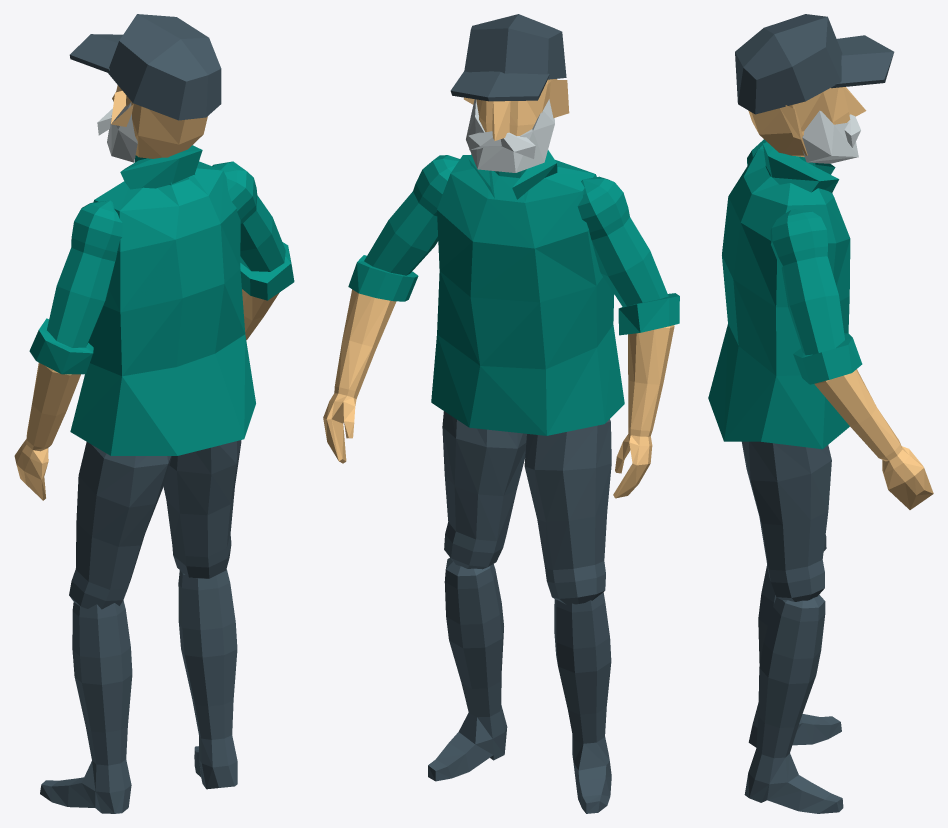
The model's file is grandpa.glb.
The picture shows the model from 3 angles, left to right: view 1: azimuth 30°, elevation 25°; view 2: azimuth 150°, elevation 25°; view 3: azimuth 270°, elevation 25°; orthographic projection.
Visible parts, largest first — view 1: group997697249, group1466040742, group1580086226, group1471751933, group1099573344, group513549844, group1650303170, group1611516149, group1322583641, group516646318, group1625799282; view 2: group997697249, group1466040742, group1471751933, group1099573344, group1650303170, group1580086226, group513549844, group1611516149, group1322583641, group1625799282, group516646318; view 3: group997697249, group1466040742, group1099573344, group1650303170, group1611516149, group1625799282, group1580086226, group516646318.
Boxes of the visible parts, x1,y1,x2,y2 form: group997697249: [70, 155, 255, 455]; group1466040742: [69, 14, 221, 162]; group1580086226: [40, 600, 132, 813]; group1471751933: [69, 442, 171, 609]; group1099573344: [178, 569, 237, 789]; group513549844: [29, 200, 122, 374]; group1650303170: [163, 440, 241, 578]; group1611516149: [212, 161, 294, 300]; group1322583641: [14, 363, 80, 500]; group516646318: [120, 145, 202, 189]; group1625799282: [242, 289, 279, 339]; group997697249: [431, 155, 624, 435]; group1466040742: [450, 14, 569, 172]; group1471751933: [524, 419, 611, 604]; group1099573344: [428, 558, 507, 781]; group1650303170: [442, 411, 526, 569]; group1580086226: [554, 593, 611, 813]; group513549844: [577, 176, 679, 335]; group1611516149: [348, 155, 459, 301]; group1322583641: [613, 325, 674, 498]; group1625799282: [323, 289, 396, 463]; group516646318: [468, 150, 557, 199]; group997697249: [708, 149, 850, 449]; group1466040742: [735, 14, 894, 163]; group1099573344: [744, 594, 843, 813]; group1650303170: [742, 441, 831, 601]; group1611516149: [770, 209, 862, 384]; group1625799282: [814, 369, 933, 509]; group1580086226: [748, 565, 841, 747]; group516646318: [763, 142, 839, 192].
Bounding box in the file's own units: 1.23 × 3.08 × 0.8281.
